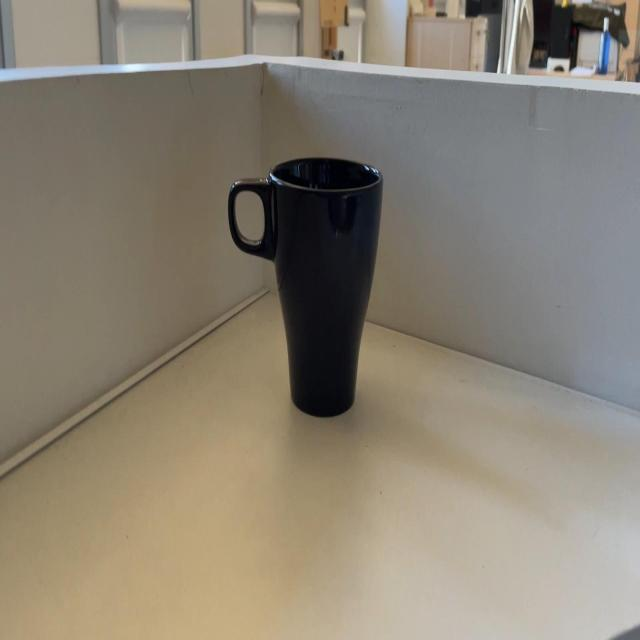cup: (231, 156, 390, 412)
